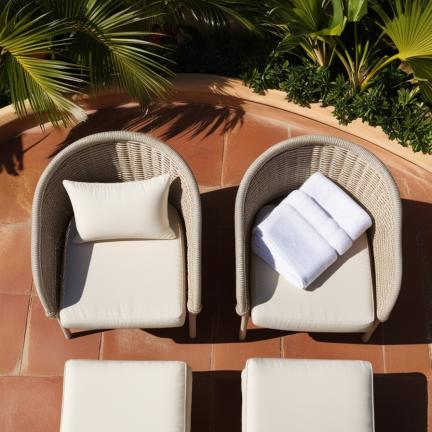empty chair: (31, 131, 202, 338)
occupied chair: (236, 135, 402, 342)
